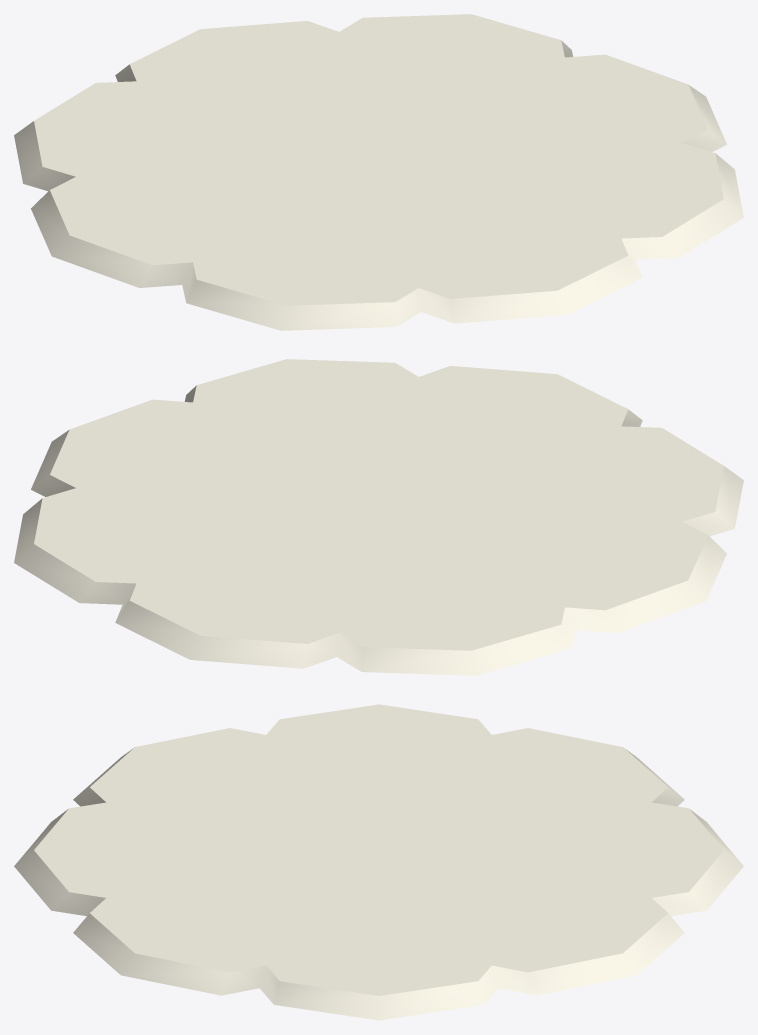
Rendered from doily_01.fbx.
3 views of the same model, one above another, from view 1: azimuth 30°, elevation 25°; view 2: azimuth 150°, elevation 25°; view 3: azimuth 270°, elevation 25° (orthographic). The views are drawn at different scales.
Parts seen in each view (by area): view 1: doily_01; view 2: doily_01; view 3: doily_01.
Boxes of the visible parts, x1,y1,x2,y2 form: doily_01: (14, 14, 743, 330); doily_01: (14, 359, 743, 675); doily_01: (14, 704, 743, 1020).
Size of the model in its own units: 41.09 by 1 by 41.09.
